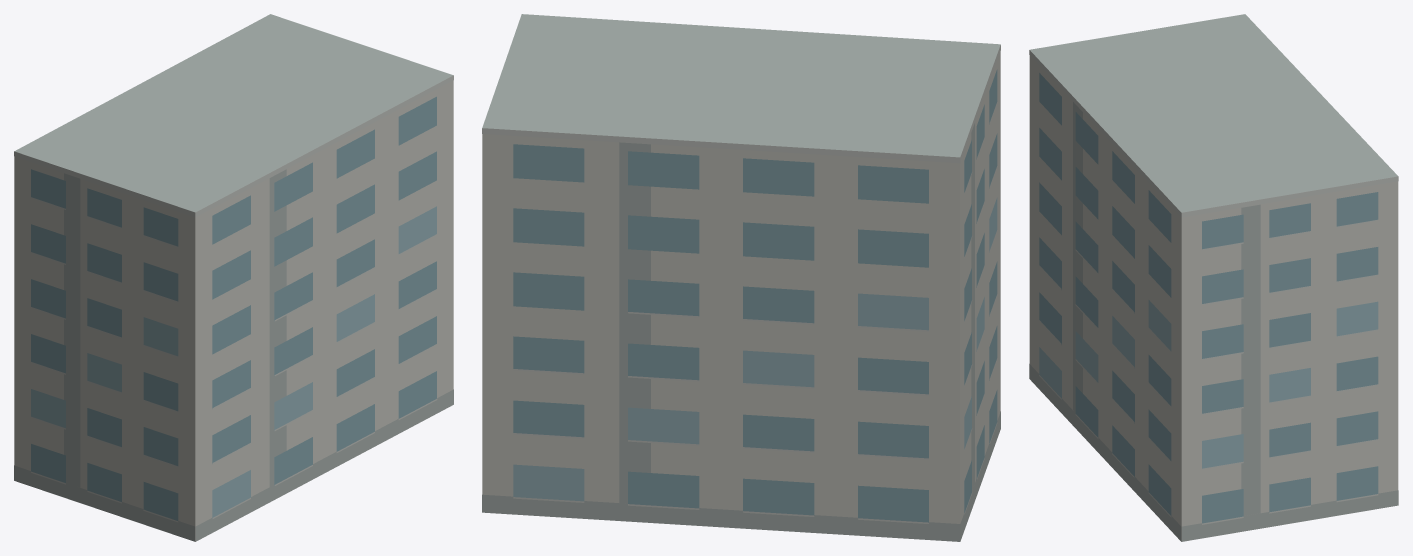
File: survey-upis-32884319.glb
The picture shows the model from 3 angles, left to right: view 1: azimuth 30°, elevation 25°; view 2: azimuth 150°, elevation 25°; view 3: azimuth 270°, elevation 25°; orthographic projection. The views are drawn at different scales.
Parts seen in each view (by area): view 1: survey-upis-32884319.tmp; view 2: survey-upis-32884319.tmp; view 3: survey-upis-32884319.tmp.
Boxes of the visible parts, x1=… form: survey-upis-32884319.tmp: x1=14, y1=14, x2=453, y2=541; survey-upis-32884319.tmp: x1=482, y1=14, x2=1000, y2=541; survey-upis-32884319.tmp: x1=1029, y1=14, x2=1398, y2=541.
Bounding box in the file's own units: 20.47 × 15.8 × 16.06.
